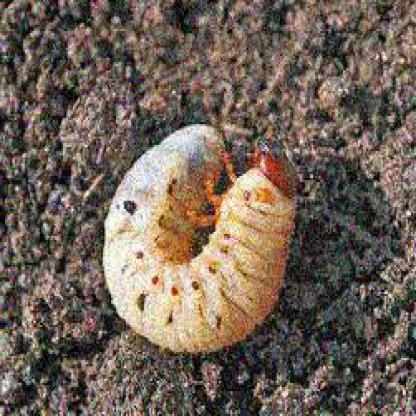root grubs: (101, 127, 299, 354)
